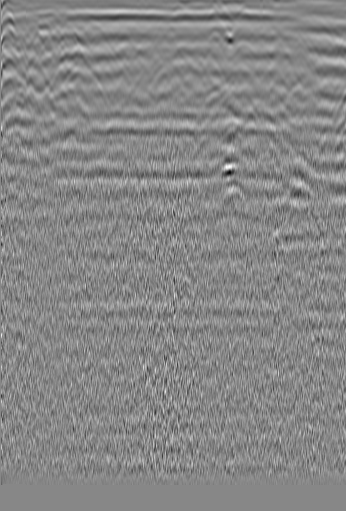가스: (212, 148, 250, 186)
상수: (326, 21, 346, 41)
오수: (25, 28, 50, 55)
우수: (172, 25, 202, 50)
